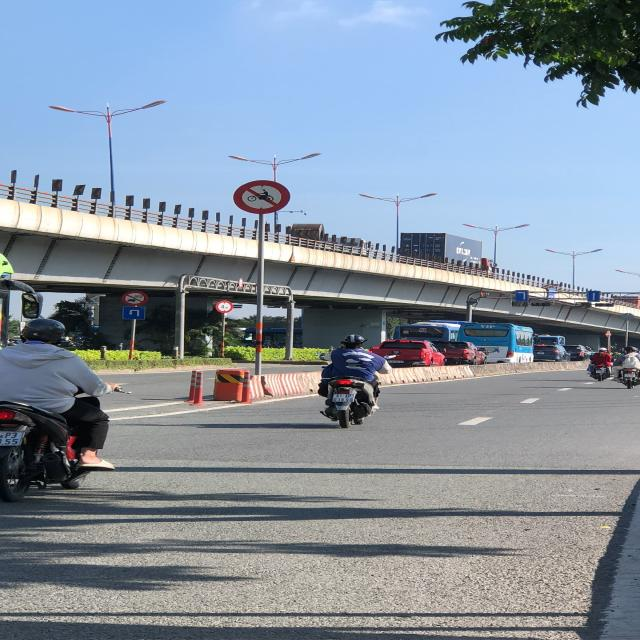Bien bao cam xe may: (231, 176, 291, 217)
